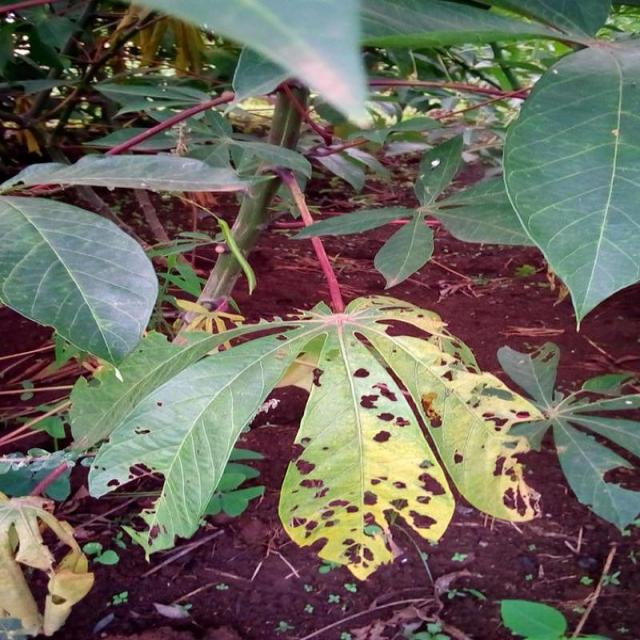cassava leaf: (70, 291, 548, 579), (278, 322, 457, 580), (502, 39, 640, 330), (2, 192, 160, 368)
